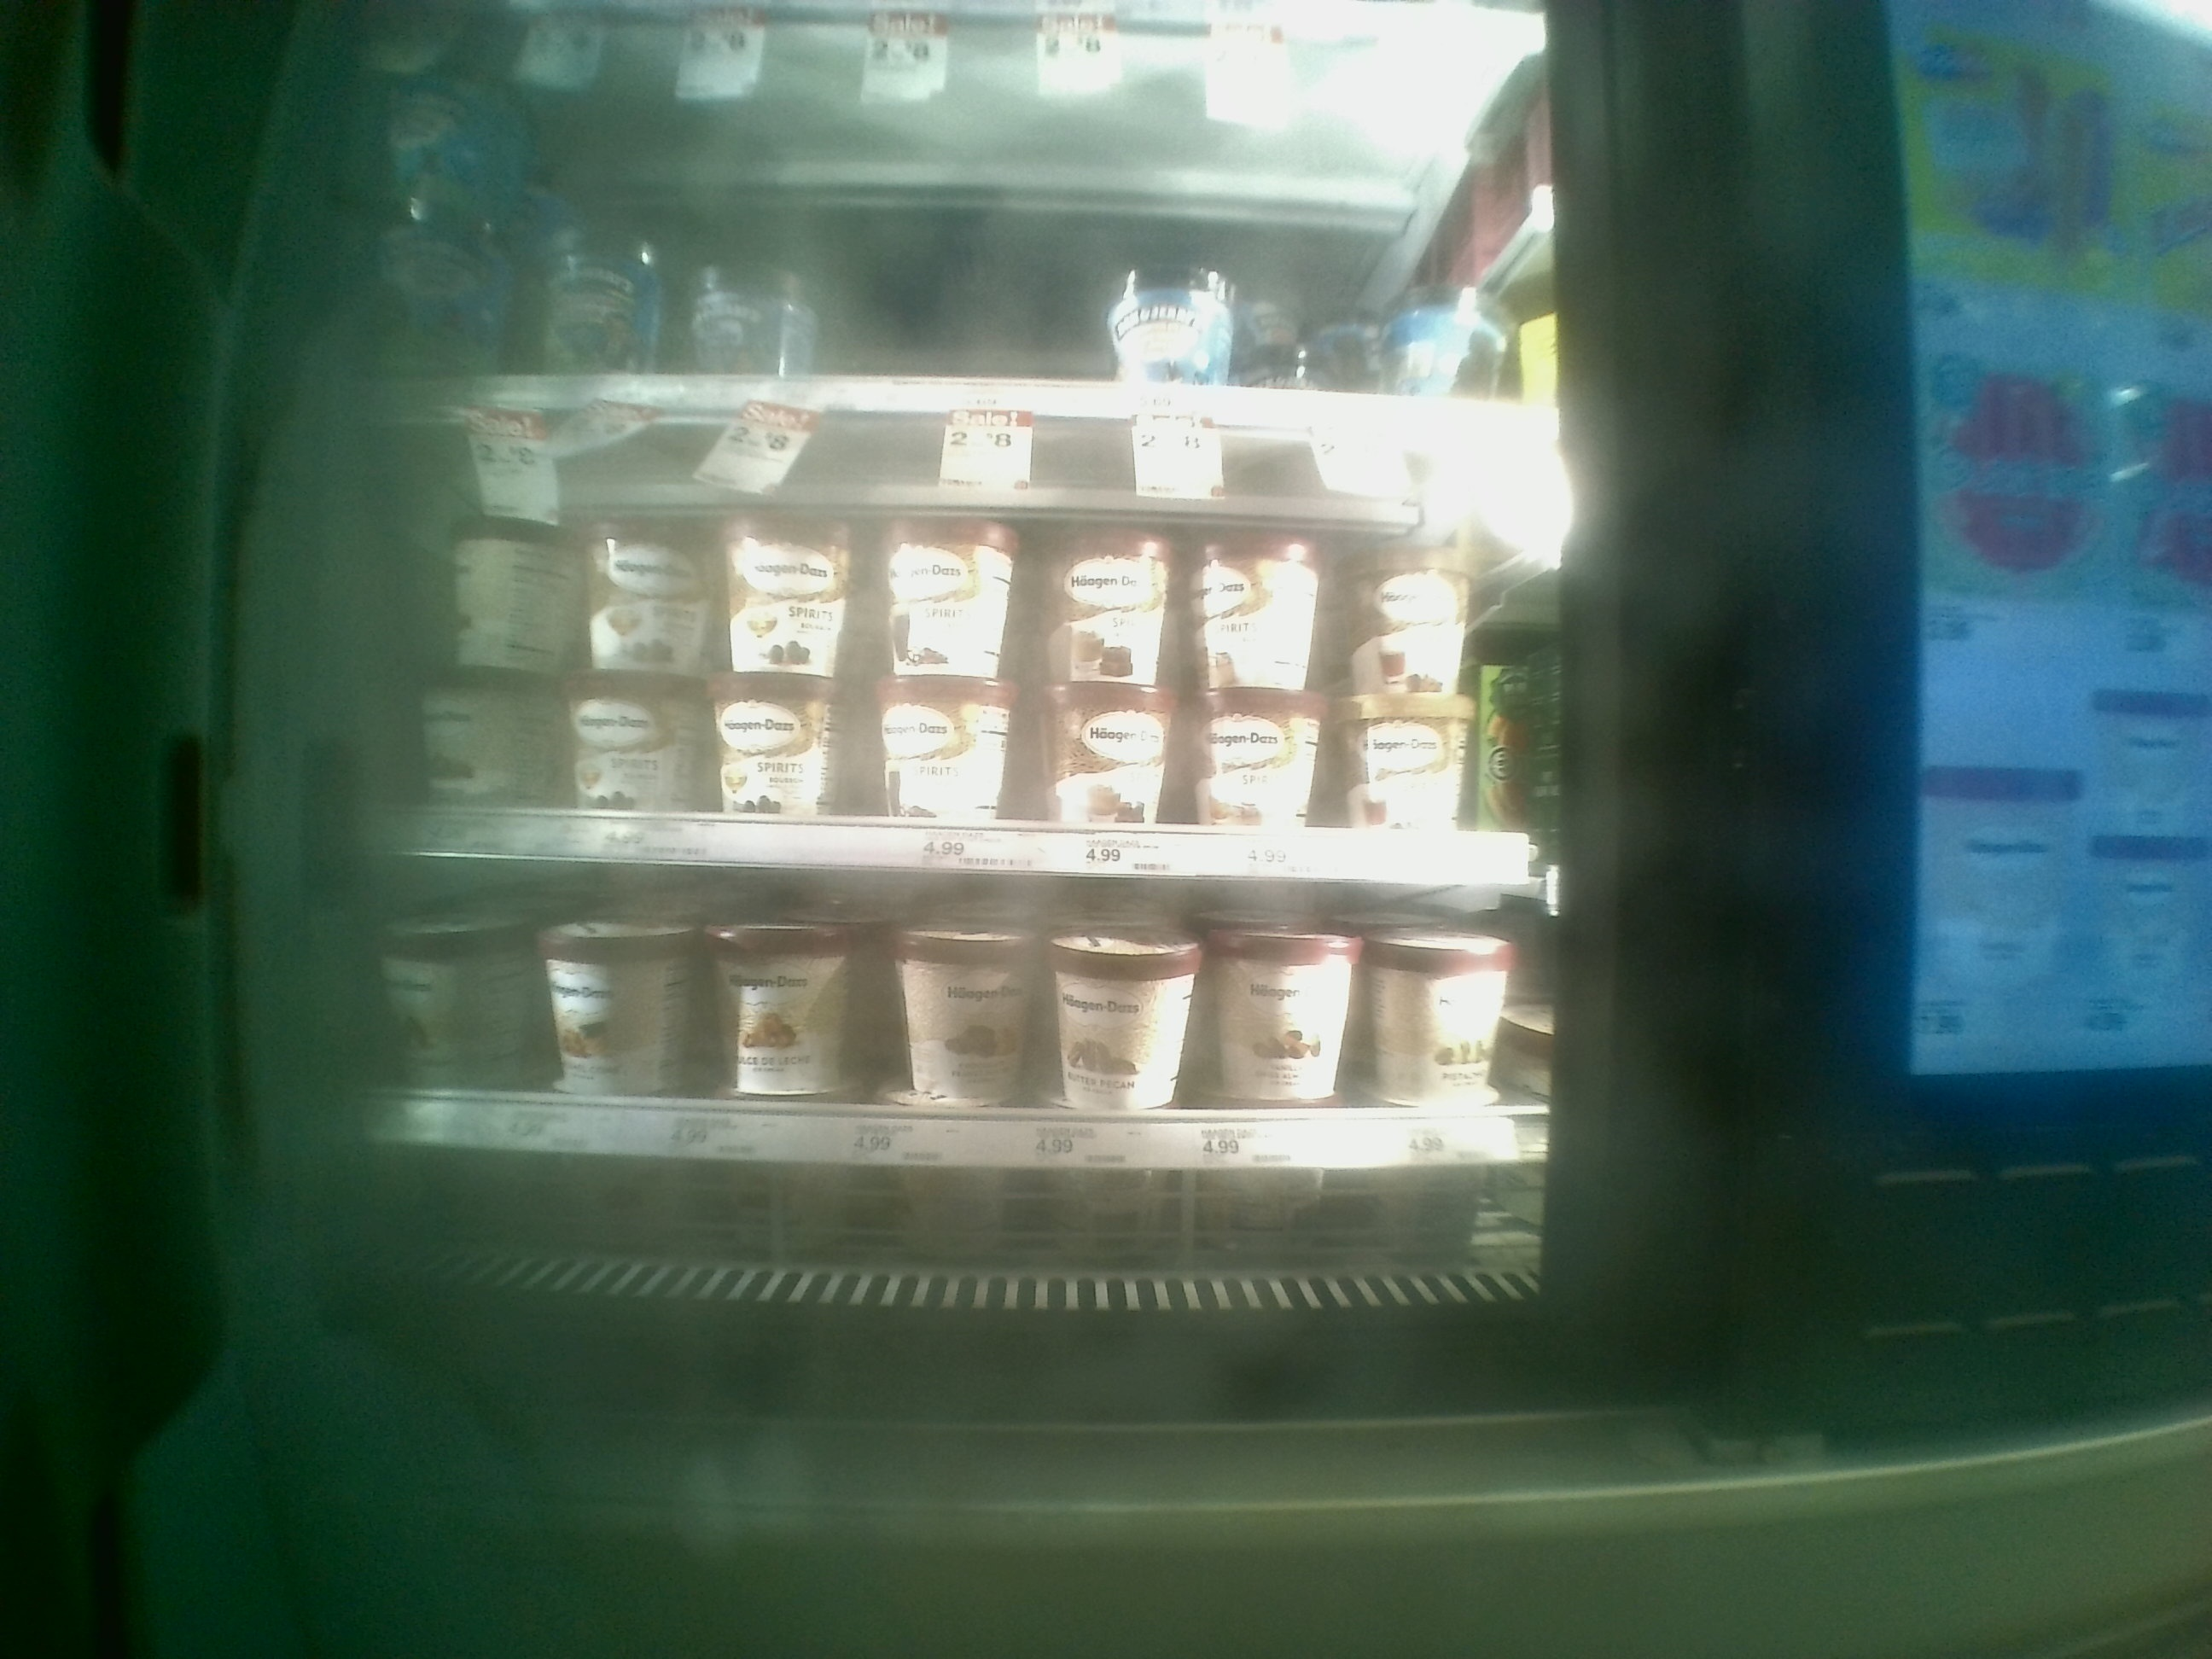shelf: (369, 425, 1543, 882), (369, 864, 1554, 1223)
